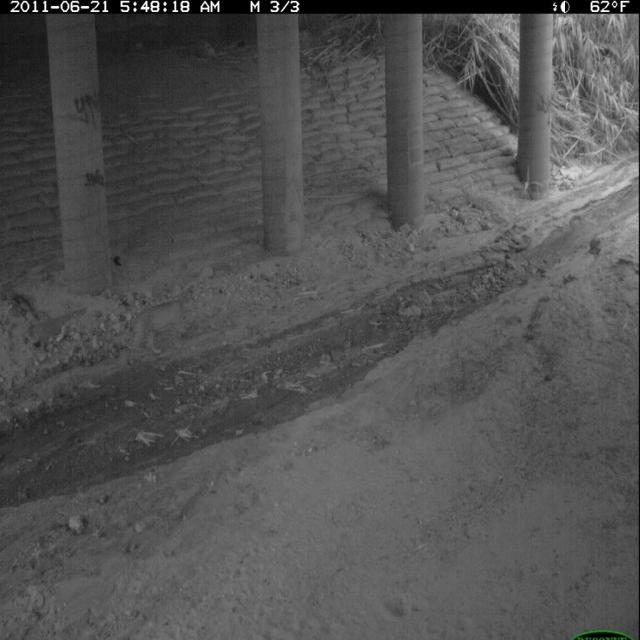bobcat: (125, 293, 194, 370)
